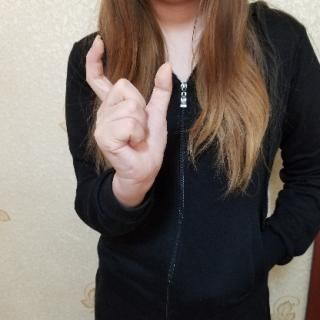NOON: (80, 32, 179, 190)
